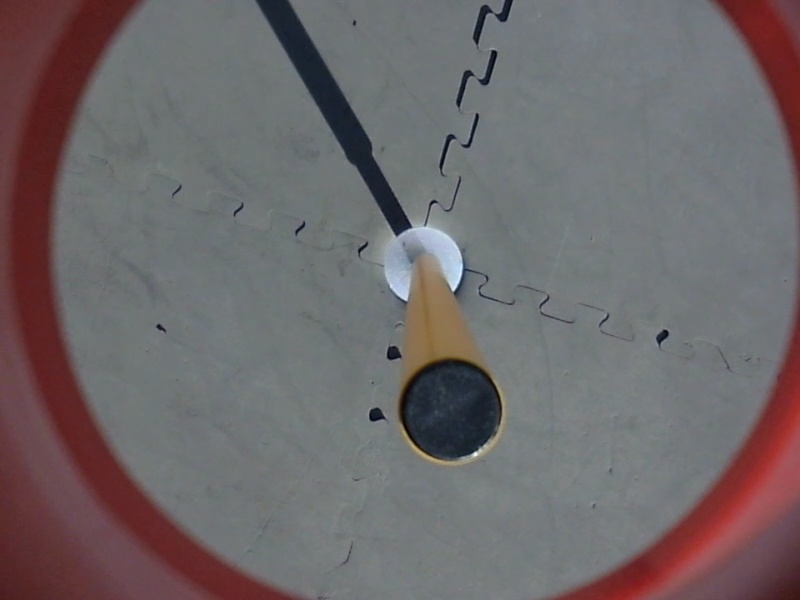tip: (391, 352, 509, 468)
